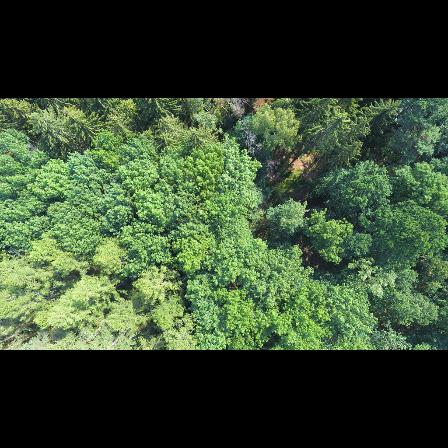Dead: (240, 125, 263, 154)
